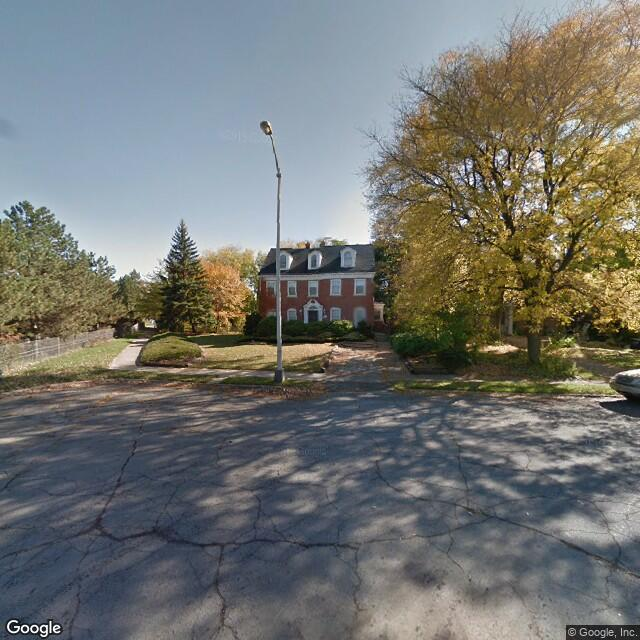litter: (279, 388, 286, 393)
